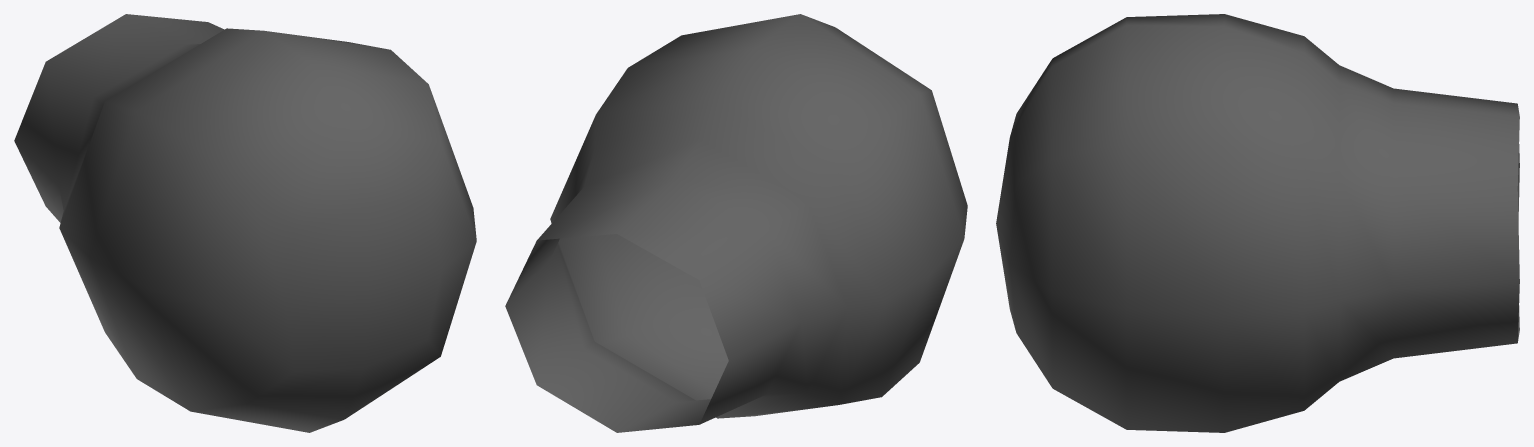
The model's file is Prop_GenericHandle_02.fbx.
3 renders of one model, left to right at view 1: azimuth 30°, elevation 25°; view 2: azimuth 150°, elevation 25°; view 3: azimuth 270°, elevation 25°, orthographic. The views are drawn at different scales.
Visible parts, largest first — view 1: Prop_GenericHandle_02; view 2: Prop_GenericHandle_02; view 3: Prop_GenericHandle_02.
Part boxes in pixels (x1=…): Prop_GenericHandle_02: x1=14, y1=14, x2=476, y2=432; Prop_GenericHandle_02: x1=505, y1=14, x2=967, y2=432; Prop_GenericHandle_02: x1=996, y1=14, x2=1519, y2=432.
Bounding box in the file's own units: 7.14 × 7.23 × 8.65.
